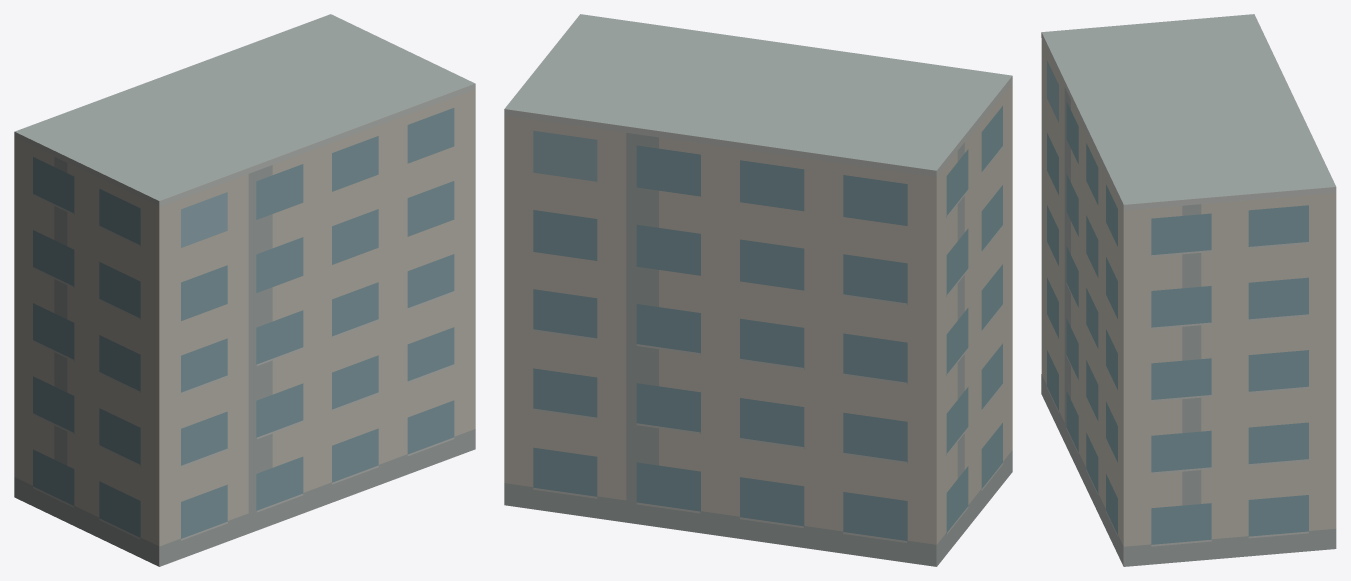
File: residential-879c5e7d-54a9-4ed5-8501-f8e3fdede3d2.glb
3 renders of one model, left to right at view 1: azimuth 30°, elevation 25°; view 2: azimuth 150°, elevation 25°; view 3: azimuth 270°, elevation 25°, orthographic. The views are drawn at different scales.
Visible parts, largest first — view 1: residential-879c5e7d-54a9-4ed5-8501-f8e3fdede3d2.tmp; view 2: residential-879c5e7d-54a9-4ed5-8501-f8e3fdede3d2.tmp; view 3: residential-879c5e7d-54a9-4ed5-8501-f8e3fdede3d2.tmp.
Boxes of the visible parts, x1,y1,x2,y2 form: residential-879c5e7d-54a9-4ed5-8501-f8e3fdede3d2.tmp: [14, 14, 475, 566]; residential-879c5e7d-54a9-4ed5-8501-f8e3fdede3d2.tmp: [504, 14, 1012, 566]; residential-879c5e7d-54a9-4ed5-8501-f8e3fdede3d2.tmp: [1041, 14, 1336, 566].
Size of the model in its own units: 17.25 by 15.25 by 11.27.
